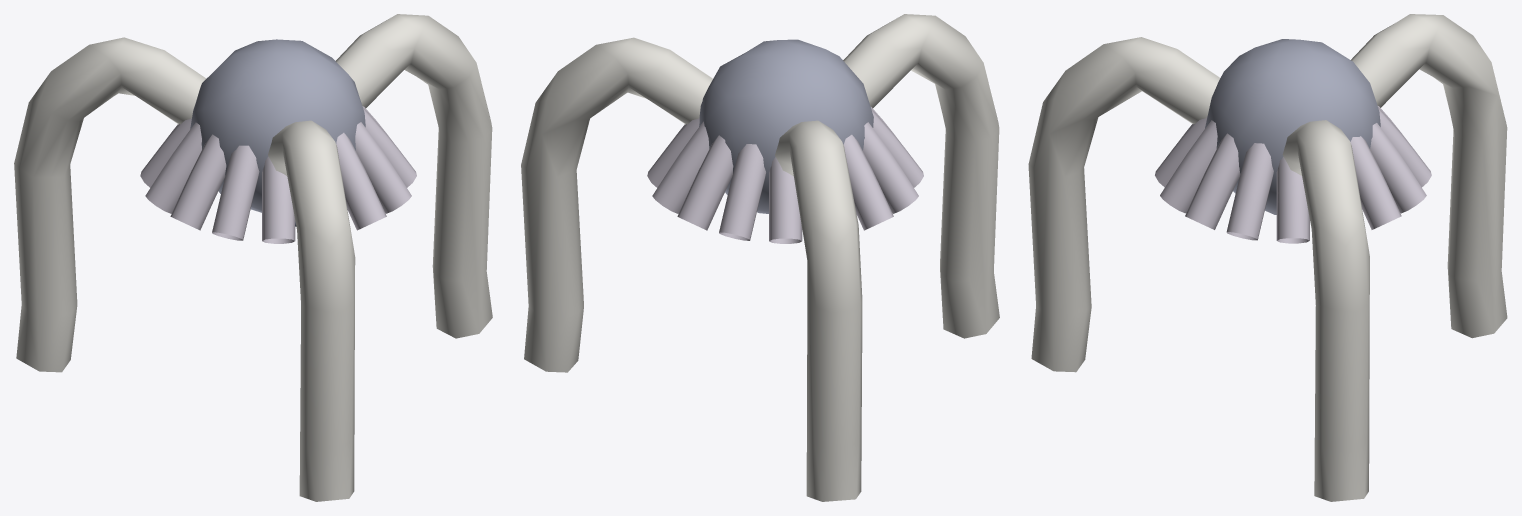
File: bio_tripod_bell_10_far.glb
3 views of the same model, side by side, from view 1: azimuth 30°, elevation 25°; view 2: azimuth 150°, elevation 25°; view 3: azimuth 270°, elevation 25° (orthographic).
Parts seen in each view (by area): view 1: Arched tripod.001, Arched tripod, Arched tripod.002, Hanging bell core, Flared rib.009, Flared rib.008, Flared rib.012, Flared rib.010, Flared rib.013, Flared rib.007, Flared rib.014, Flared rib.006; view 2: Arched tripod, Arched tripod.002, Arched tripod.001, Hanging bell core, Flared rib.004, Flared rib.003, Flared rib.007, Flared rib.005, Flared rib.002, Flared rib.008, Flared rib.009, Flared rib.001; view 3: Arched tripod.002, Arched tripod.001, Arched tripod, Hanging bell core, Flared rib.014, Flared rib.013, Flared rib.002, Flared rib, Flared rib.012, Flared rib.003, Flared rib.004, Flared rib.011.
Boxes of the visible parts, left/top/right/bottom form: Arched tripod.001: left=14, top=37, right=206, bottom=372; Arched tripod: left=336, top=14, right=492, bottom=338; Arched tripod.002: left=268, top=120, right=355, bottom=501; Hanging bell core: left=190, top=39, right=365, bottom=212; Flared rib.009: left=212, top=145, right=259, bottom=240; Flared rib.008: left=170, top=134, right=226, bottom=230; Flared rib.012: left=336, top=132, right=386, bottom=230; Flared rib.010: left=262, top=156, right=295, bottom=243; Flared rib.013: left=355, top=122, right=411, bottom=213; Flared rib.007: left=145, top=122, right=201, bottom=213; Flared rib.014: left=363, top=107, right=416, bottom=187; Flared rib.006: left=140, top=118, right=191, bottom=187; Arched tripod: left=521, top=37, right=712, bottom=372; Arched tripod.002: left=843, top=14, right=999, bottom=338; Arched tripod.001: left=775, top=120, right=862, bottom=501; Hanging bell core: left=699, top=39, right=873, bottom=213; Flared rib.004: left=719, top=144, right=765, bottom=240; Flared rib.003: left=677, top=135, right=733, bottom=230; Flared rib.007: left=843, top=134, right=893, bottom=230; Flared rib.005: left=769, top=157, right=802, bottom=243; Flared rib.002: left=652, top=121, right=709, bottom=213; Flared rib.008: left=863, top=122, right=918, bottom=213; Flared rib.009: left=871, top=108, right=923, bottom=187; Flared rib.001: left=647, top=117, right=699, bottom=187; Arched tripod.002: left=1028, top=37, right=1220, bottom=372; Arched tripod.001: left=1351, top=14, right=1507, bottom=338; Arched tripod: left=1282, top=120, right=1369, bottom=501; Hanging bell core: left=1205, top=39, right=1380, bottom=214; Flared rib.014: left=1226, top=143, right=1273, bottom=240; Flared rib.013: left=1185, top=133, right=1240, bottom=229; Flared rib.002: left=1350, top=136, right=1401, bottom=229; Flared rib: left=1276, top=157, right=1309, bottom=243; Flared rib.012: left=1160, top=120, right=1217, bottom=213; Flared rib.003: left=1370, top=123, right=1426, bottom=213; Flared rib.004: left=1378, top=107, right=1431, bottom=187; Flared rib.011: left=1155, top=116, right=1207, bottom=187.
Bounding box in the file's own units: 2.52 × 2.08 × 2.59.
